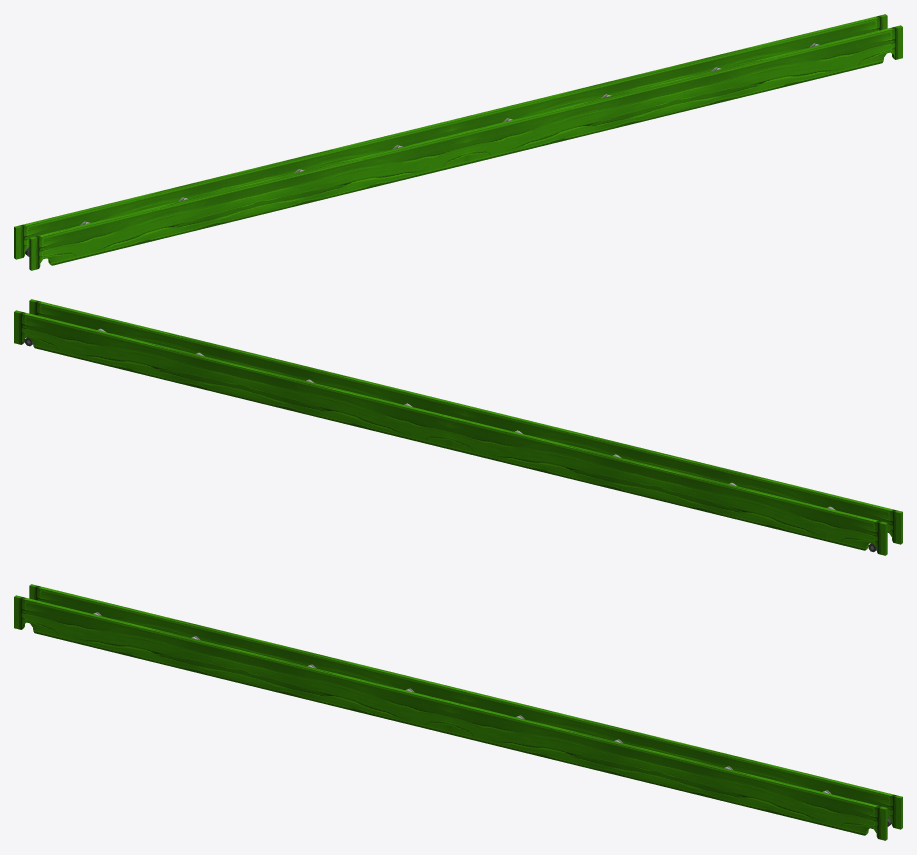
Rendered from long_fence_green.fbx.
The picture shows the model from 3 angles, top to bottom: view 1: azimuth 30°, elevation 25°; view 2: azimuth 150°, elevation 25°; view 3: azimuth 330°, elevation 25°; orthographic projection.
Visible parts, largest first — view 1: long_fence_green; view 2: long_fence_green; view 3: long_fence_green.
Part boxes in pixels (box(x1,y1,x2,y2)): long_fence_green: box(14, 14, 902, 270); long_fence_green: box(14, 299, 902, 555); long_fence_green: box(14, 584, 902, 840).
Size of the model in its own units: 1165 by 40 by 40.42.
